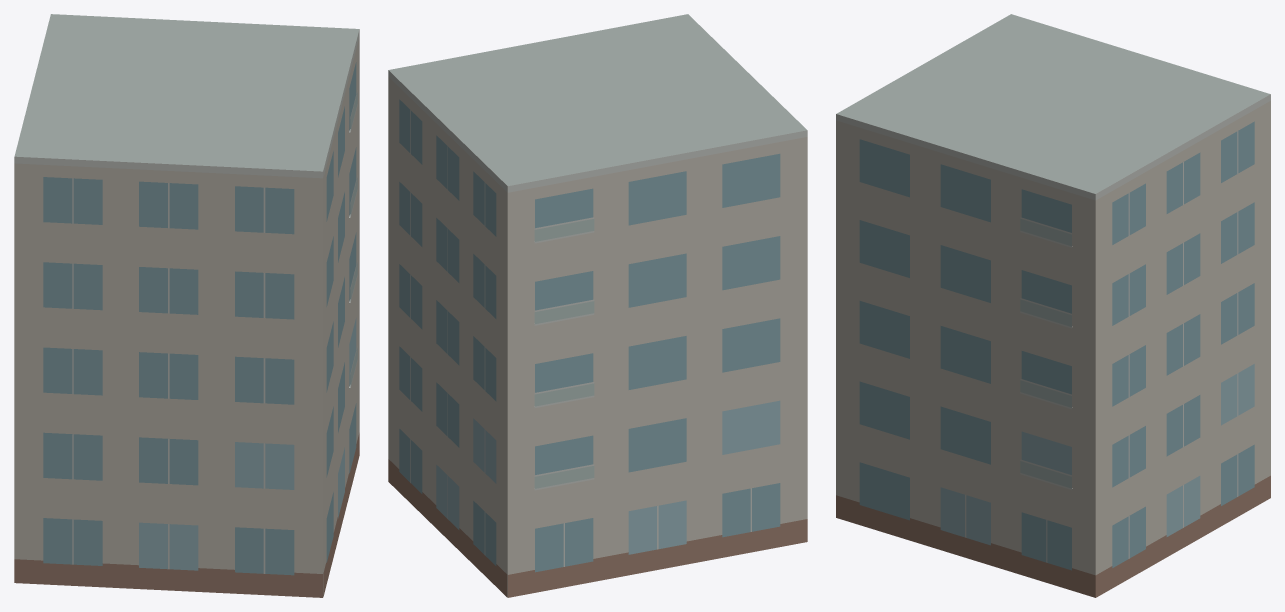
Rendered from survey-upis-32957250.glb.
The picture shows the model from 3 angles, left to right: view 1: azimuth 30°, elevation 25°; view 2: azimuth 150°, elevation 25°; view 3: azimuth 270°, elevation 25°; orthographic projection. The views are drawn at different scales.
Visible parts, largest first — view 1: survey-upis-32957250.tmp; view 2: survey-upis-32957250.tmp; view 3: survey-upis-32957250.tmp.
Part boxes in pixels (x1,y1,x2,y2): survey-upis-32957250.tmp: (14,14,359,597); survey-upis-32957250.tmp: (388,14,807,597); survey-upis-32957250.tmp: (836,14,1270,597).
Size of the model in its own units: 14.74 by 15.4 by 15.04.
